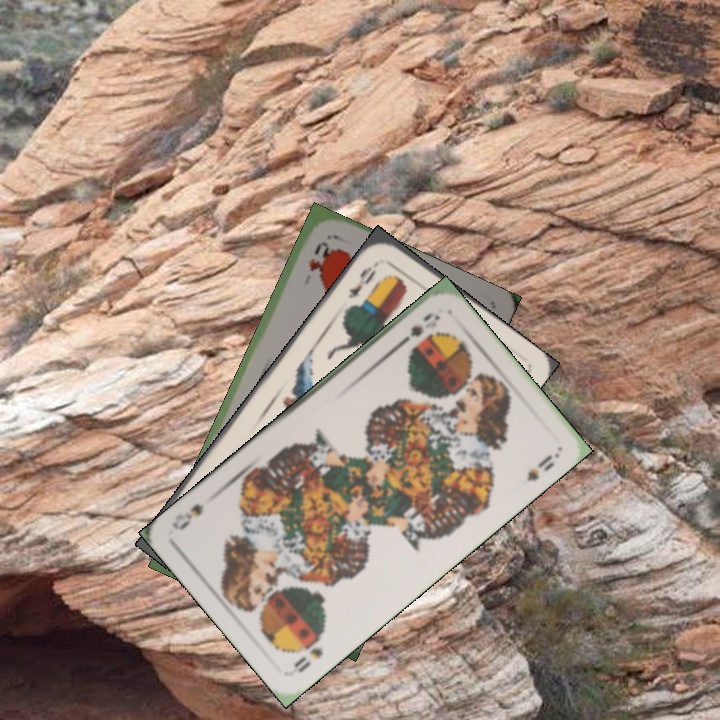EO: (343, 257, 382, 302)
HO: (304, 237, 331, 274)
SO: (393, 308, 443, 350), (288, 632, 326, 677)
